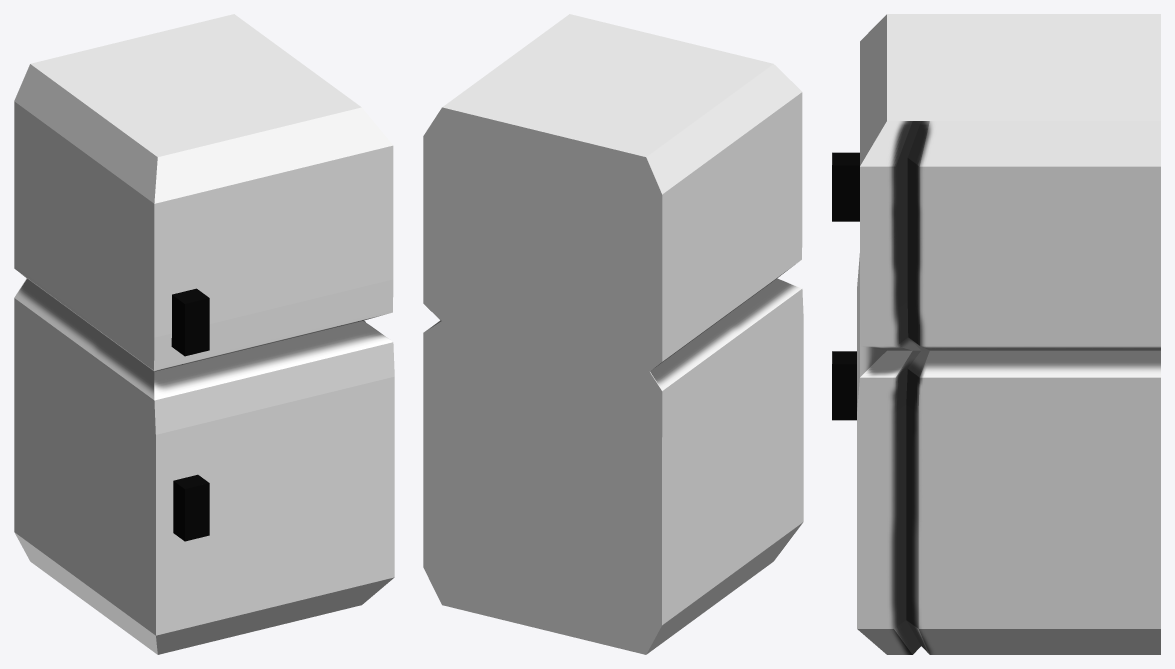
The model's file is refri.fbx.
3 renders of one model, left to right at view 1: azimuth 30°, elevation 25°; view 2: azimuth 150°, elevation 25°; view 3: azimuth 270°, elevation 25°, orthographic. The views are drawn at different scales.
Visible parts, largest first — view 1: Cubo, Cubo.001; view 2: Cubo; view 3: Cubo, Cubo.001.
Boxes of the visible parts, x1,y1,x2,y2 form: Cubo: (14, 14, 394, 654); Cubo.001: (171, 288, 209, 541); Cubo: (423, 14, 803, 654); Cubo: (857, 14, 1160, 654); Cubo.001: (832, 152, 859, 420).
Size of the model in its own units: 200 by 398 by 222.
